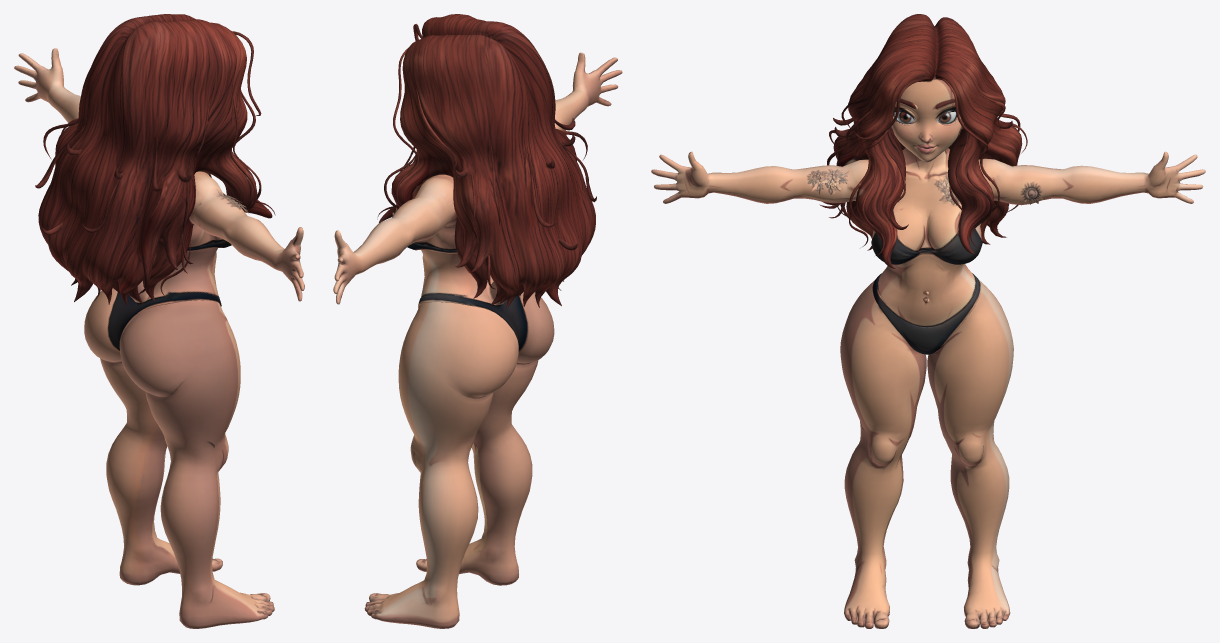
The model's file is female1.fbx.
3 renders of one model, left to right at view 1: azimuth 30°, elevation 25°; view 2: azimuth 150°, elevation 25°; view 3: azimuth 270°, elevation 25°, orthographic. The views are drawn at different scales.
Visible parts, largest first — view 1: tripo_2264f5b2_d73f_48d9_87c4_c895b2422f8b; view 2: tripo_2264f5b2_d73f_48d9_87c4_c895b2422f8b; view 3: tripo_2264f5b2_d73f_48d9_87c4_c895b2422f8b.
Boxes of the visible parts, bbox=[...] form: tripo_2264f5b2_d73f_48d9_87c4_c895b2422f8b: bbox=[14, 14, 304, 628]; tripo_2264f5b2_d73f_48d9_87c4_c895b2422f8b: bbox=[333, 14, 622, 628]; tripo_2264f5b2_d73f_48d9_87c4_c895b2422f8b: bbox=[651, 14, 1205, 628].
Bounding box in the file's own units: 0.3608 × 0.9995 × 0.8853.
Materials: 1 (1 with a texture image).
